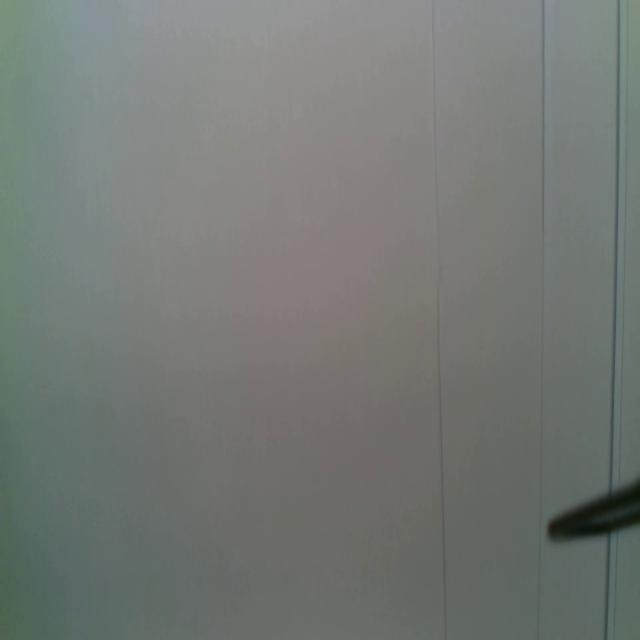crease: (430, 1, 447, 640), (535, 0, 546, 639), (608, 0, 622, 488), (618, 0, 630, 482), (612, 529, 620, 640), (603, 530, 611, 640)
